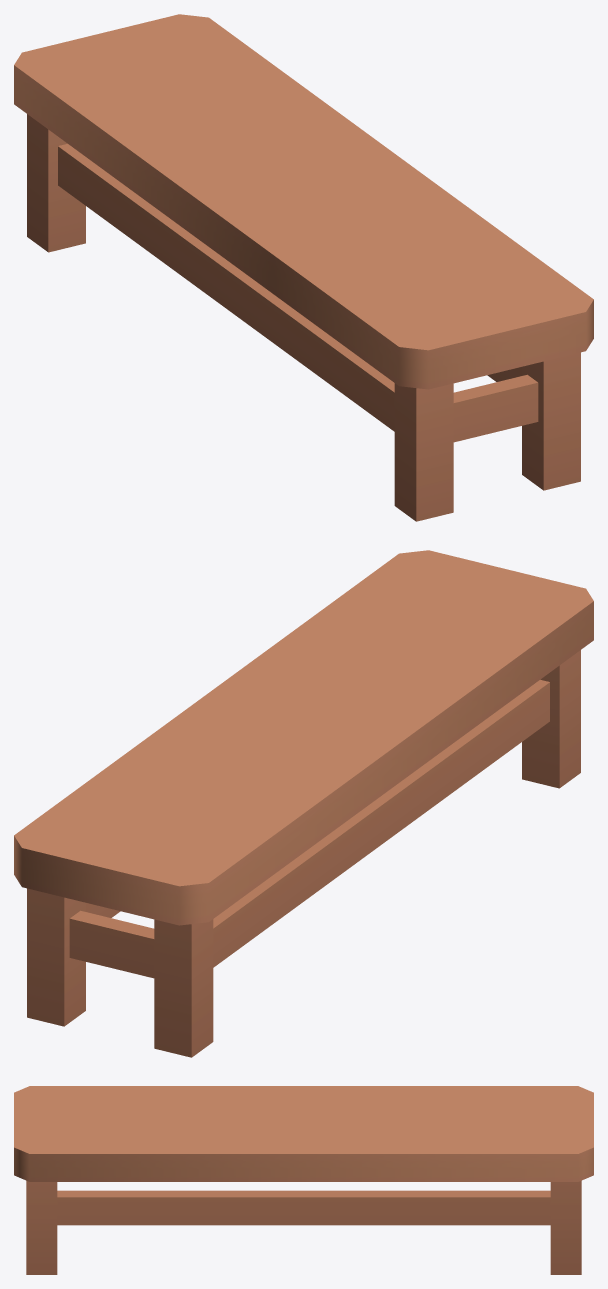
File: stall-bench.glb
3 views of the same model, one above another, from view 1: azimuth 30°, elevation 25°; view 2: azimuth 150°, elevation 25°; view 3: azimuth 270°, elevation 25° (orthographic). The views are drawn at different scales.
Visible parts, largest first — view 1: stall-bench; view 2: stall-bench; view 3: stall-bench.
Part boxes in pixels (x1=…): stall-bench: x1=14, y1=14, x2=593, y2=521; stall-bench: x1=14, y1=550, x2=593, y2=1057; stall-bench: x1=14, y1=1086, x2=593, y2=1274.
Bounding box in the file's own units: 0.2601 × 0.2255 × 0.94.
1 material, 1 textured.
